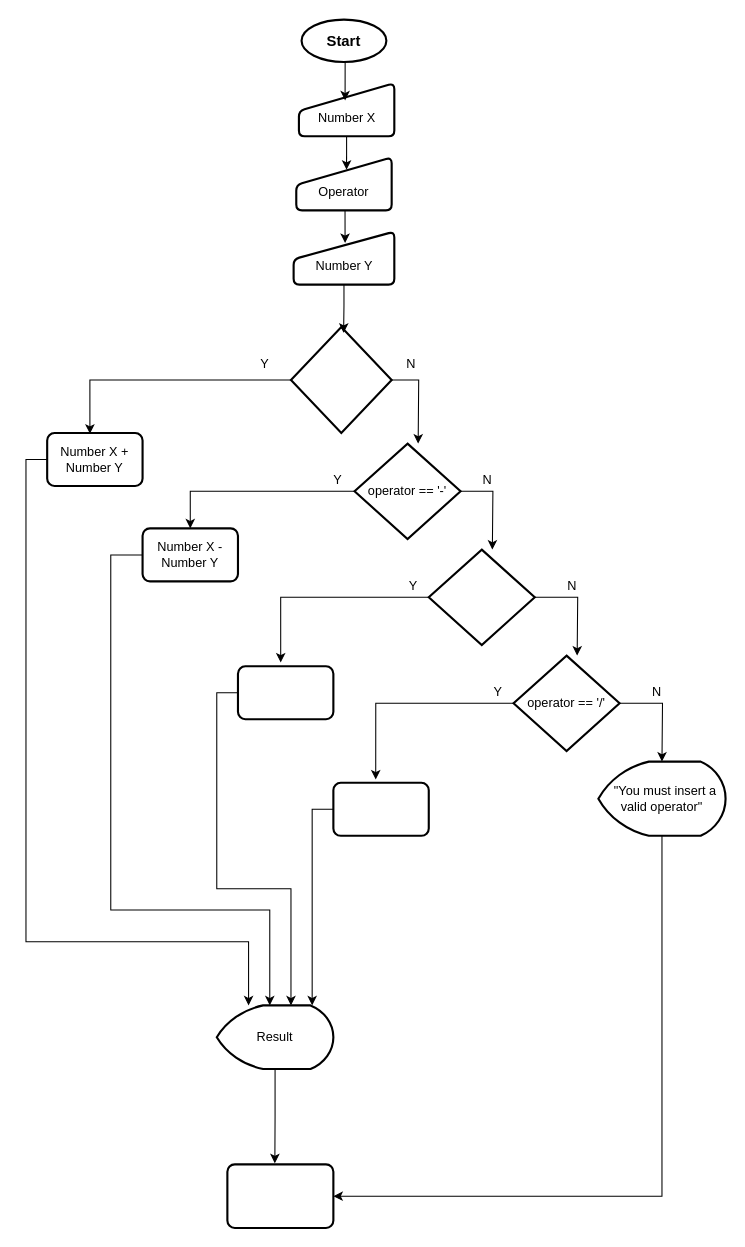
Image size: 745x1247. Some labels were removed from this diagram. The shapes that lost their labels are listed below. From the top down, each one's centre as x and y in pixels, then its label:
At point 340,379: "operator == '+'".
At point 481,597: "operator == '*'".
At point 285,692: "Number X * Number Y".
At point 380,808: "Number X / Number Y".
At point 280,1196: "End".
